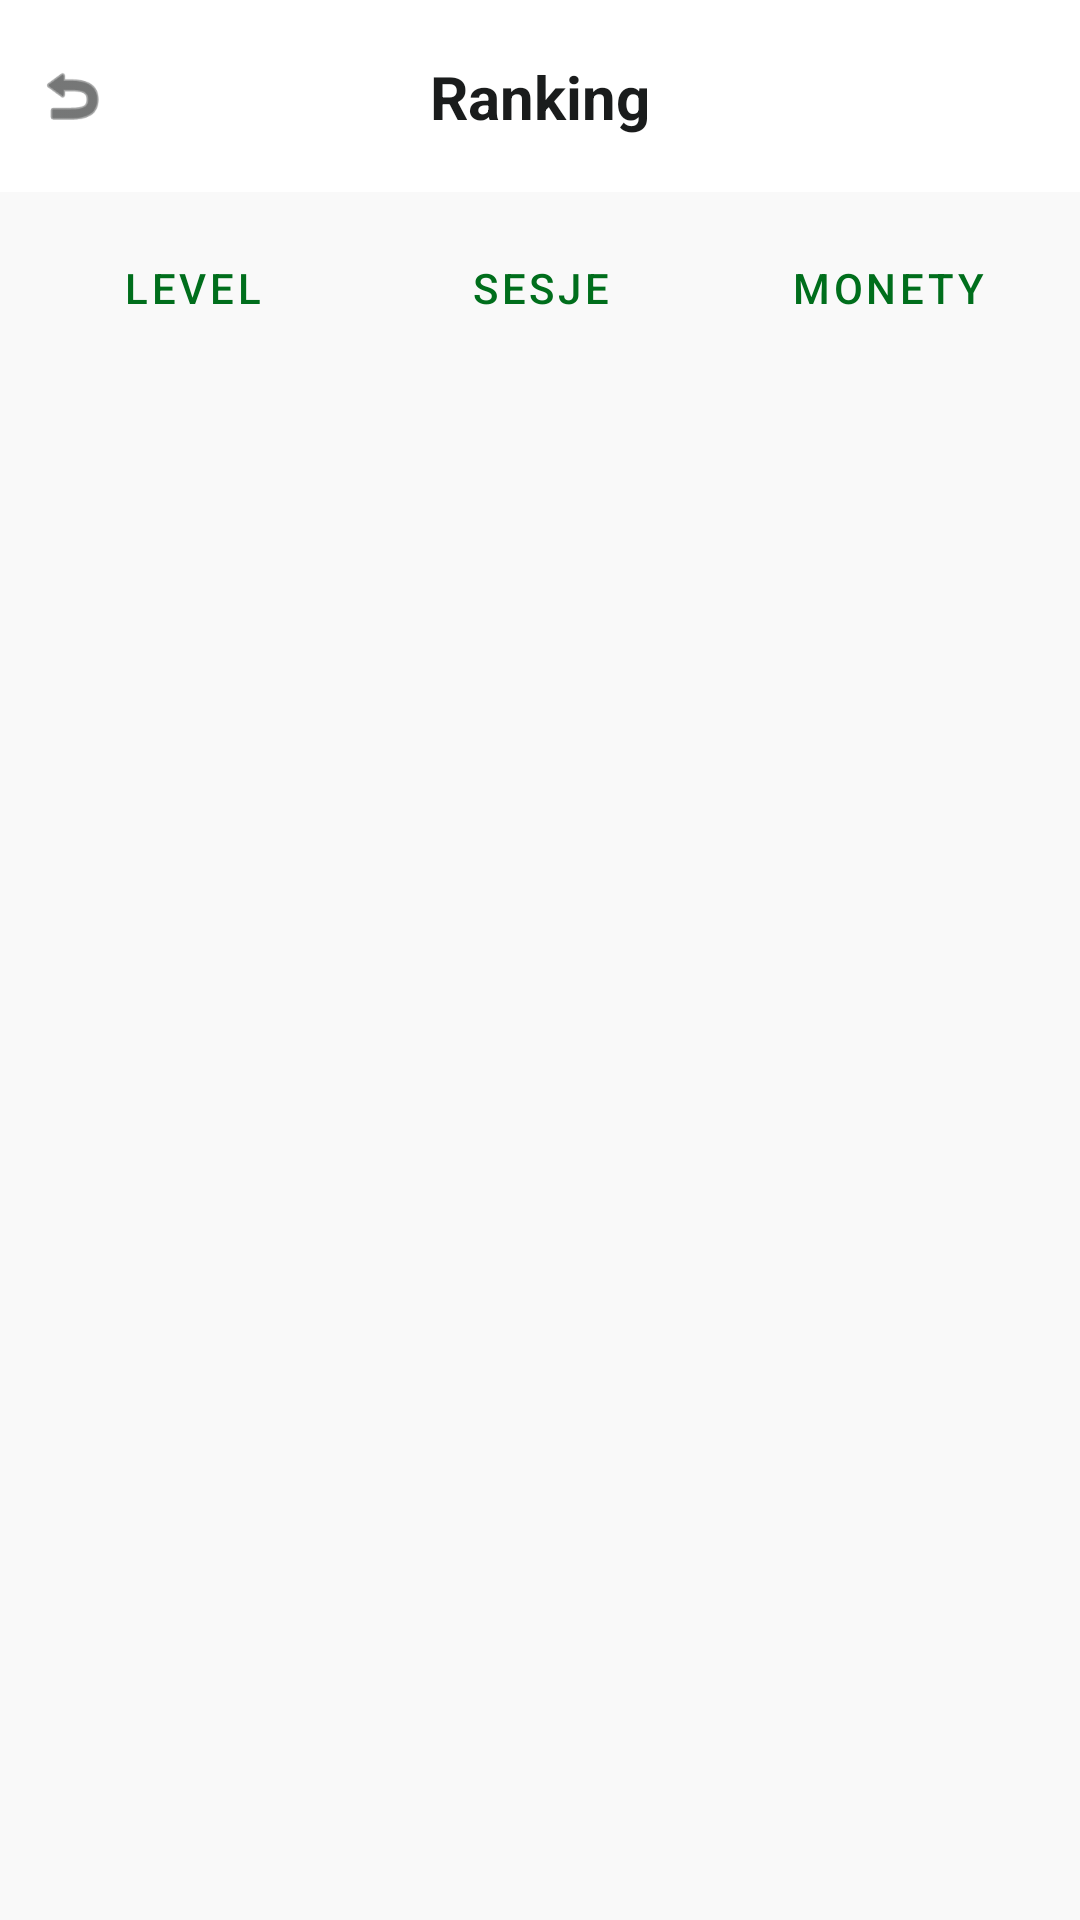

Point at icon controls on the screen. Image size 1080×1920, points as (x,y).
revert: (73,96)
